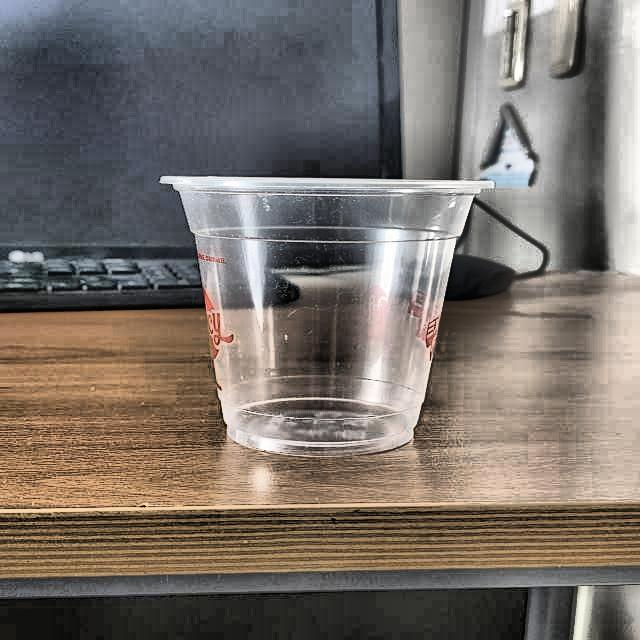plastic cup: (156, 172, 504, 455)
